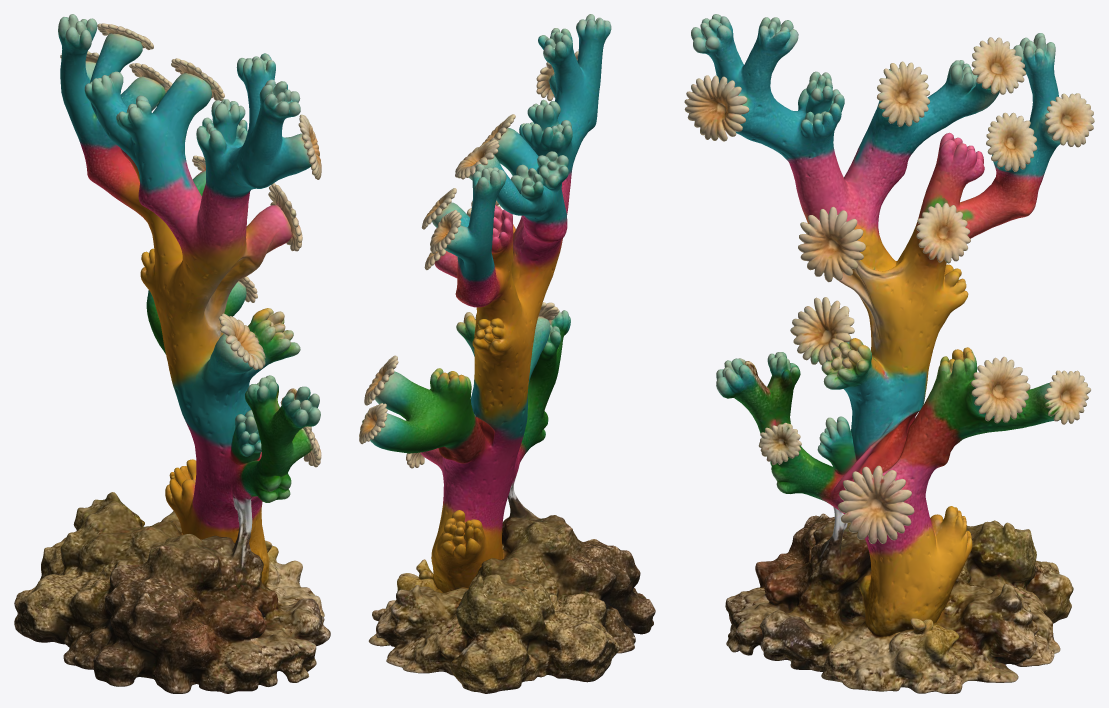
3 renders of one model, left to right at view 1: azimuth 30°, elevation 25°; view 2: azimuth 150°, elevation 25°; view 3: azimuth 270°, elevation 25°, orthographic. The views are drawn at different scales.
Size of the model in its own units: 0.4455 by 0.9998 by 0.601.
1 material, 1 textured.
